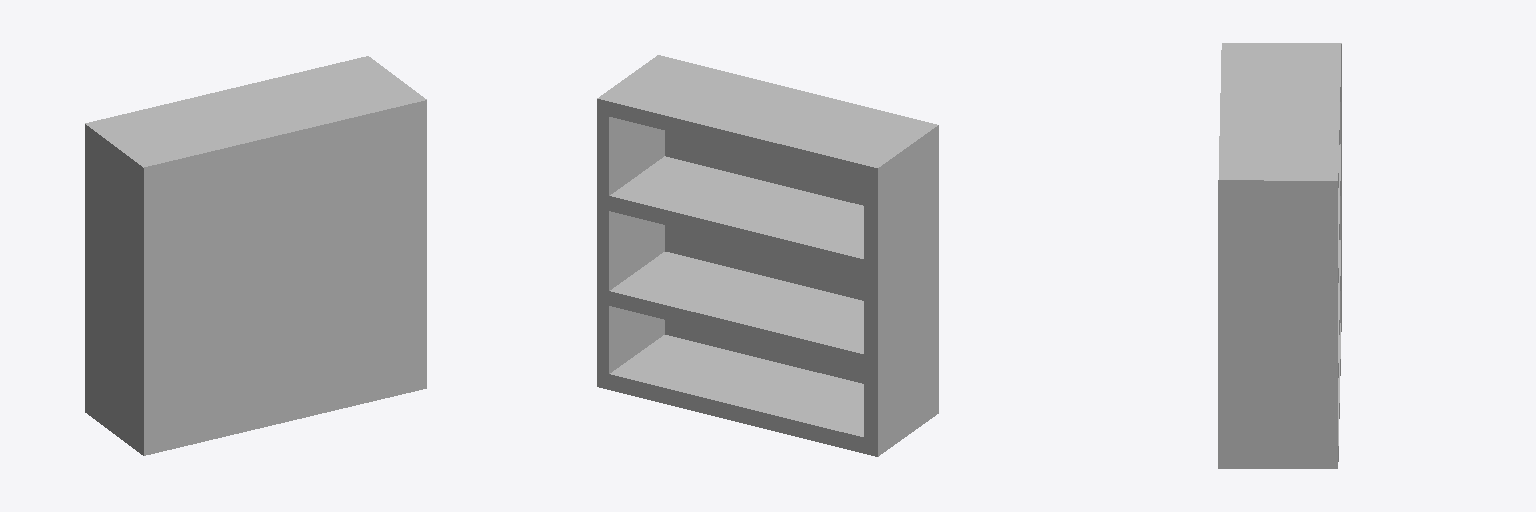
File: shelf_br.obj
The picture shows the model from 3 angles: view 1: azimuth 30°, elevation 25°; view 2: azimuth 150°, elevation 25°; view 3: azimuth 270°, elevation 25°; orthographic projection.
Parts seen in each view (by area): view 1: bowling_ball_shelf_Cube.035; view 2: bowling_ball_shelf_Cube.035; view 3: bowling_ball_shelf_Cube.035.
Part boxes in pixels (x1,y1,x2,y2): bowling_ball_shelf_Cube.035: (85,56,426,455); bowling_ball_shelf_Cube.035: (597,55,938,456); bowling_ball_shelf_Cube.035: (1218,43,1341,468).
Bounding box in the file's own units: 3.93 × 3.83 × 1.48.